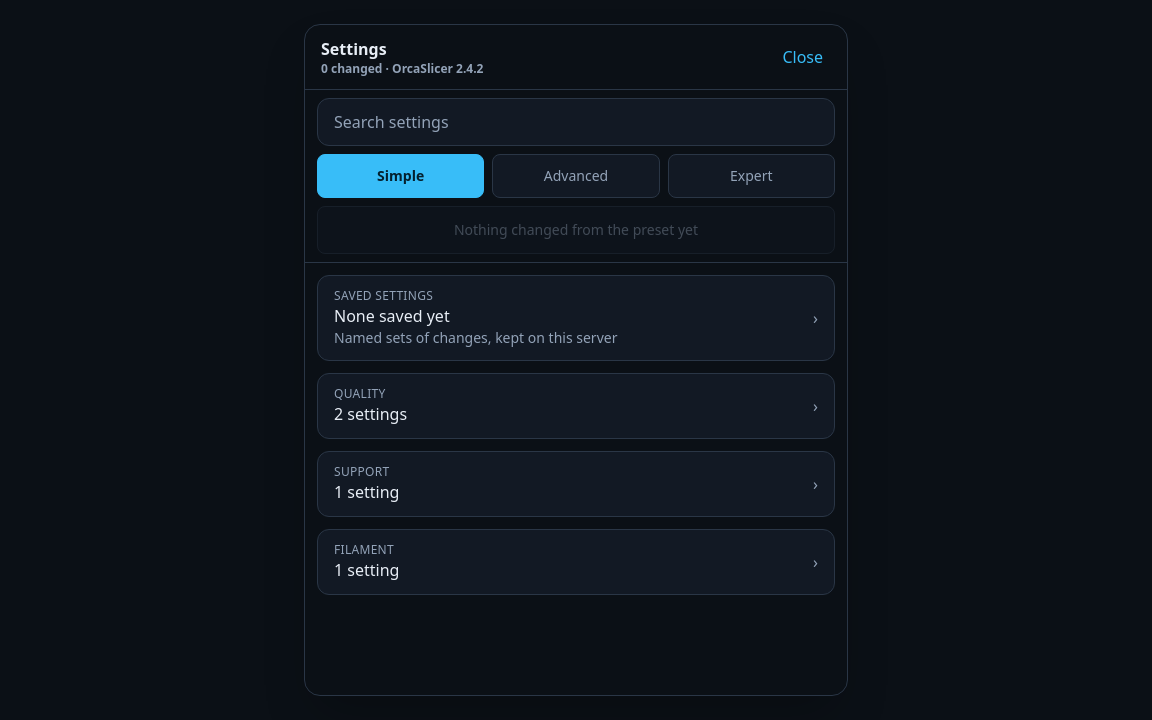
Test case: the settings sheet › finds a setting by its raw config key
Type "nozzle_temperature" into the search field with test id "settings-search" at (576, 122), box [317,98,835,146]
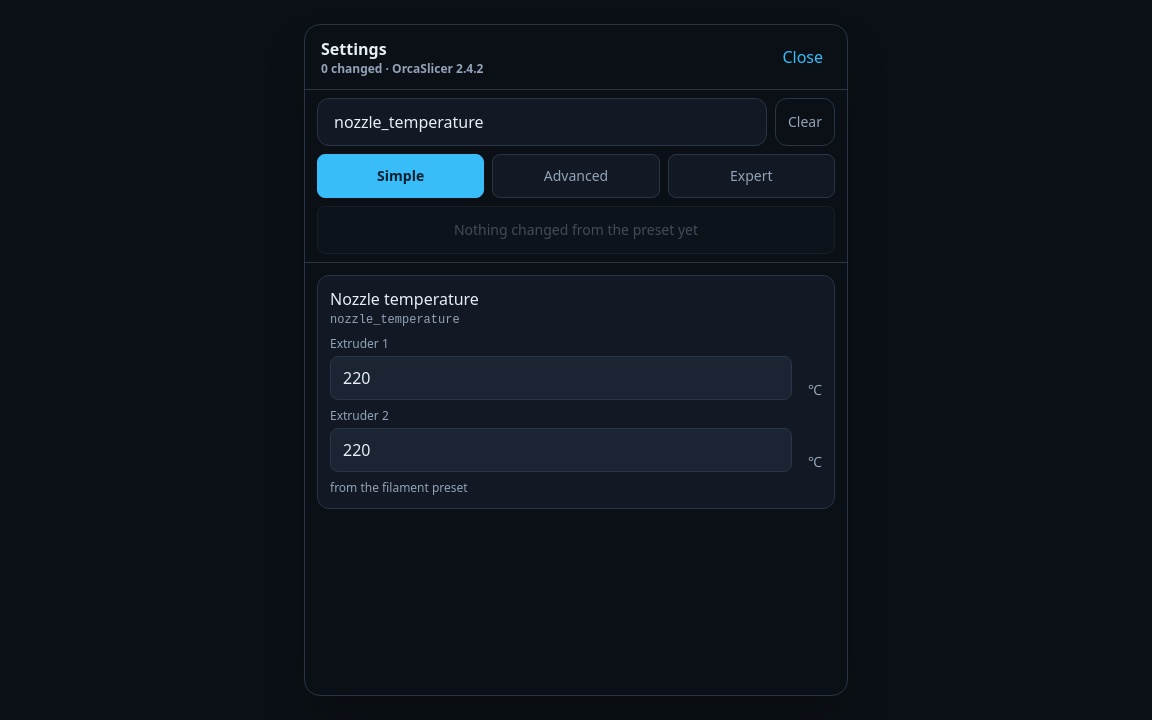
expect the element with test id "setting-nozzle_temperature" is shown: met, box [317,275,835,509]
